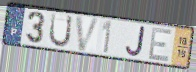1: (101, 20, 113, 55)
3: (24, 11, 47, 45)
E: (147, 27, 174, 64)
J: (124, 25, 147, 58)
U: (47, 12, 74, 49)
V: (74, 15, 102, 53)
